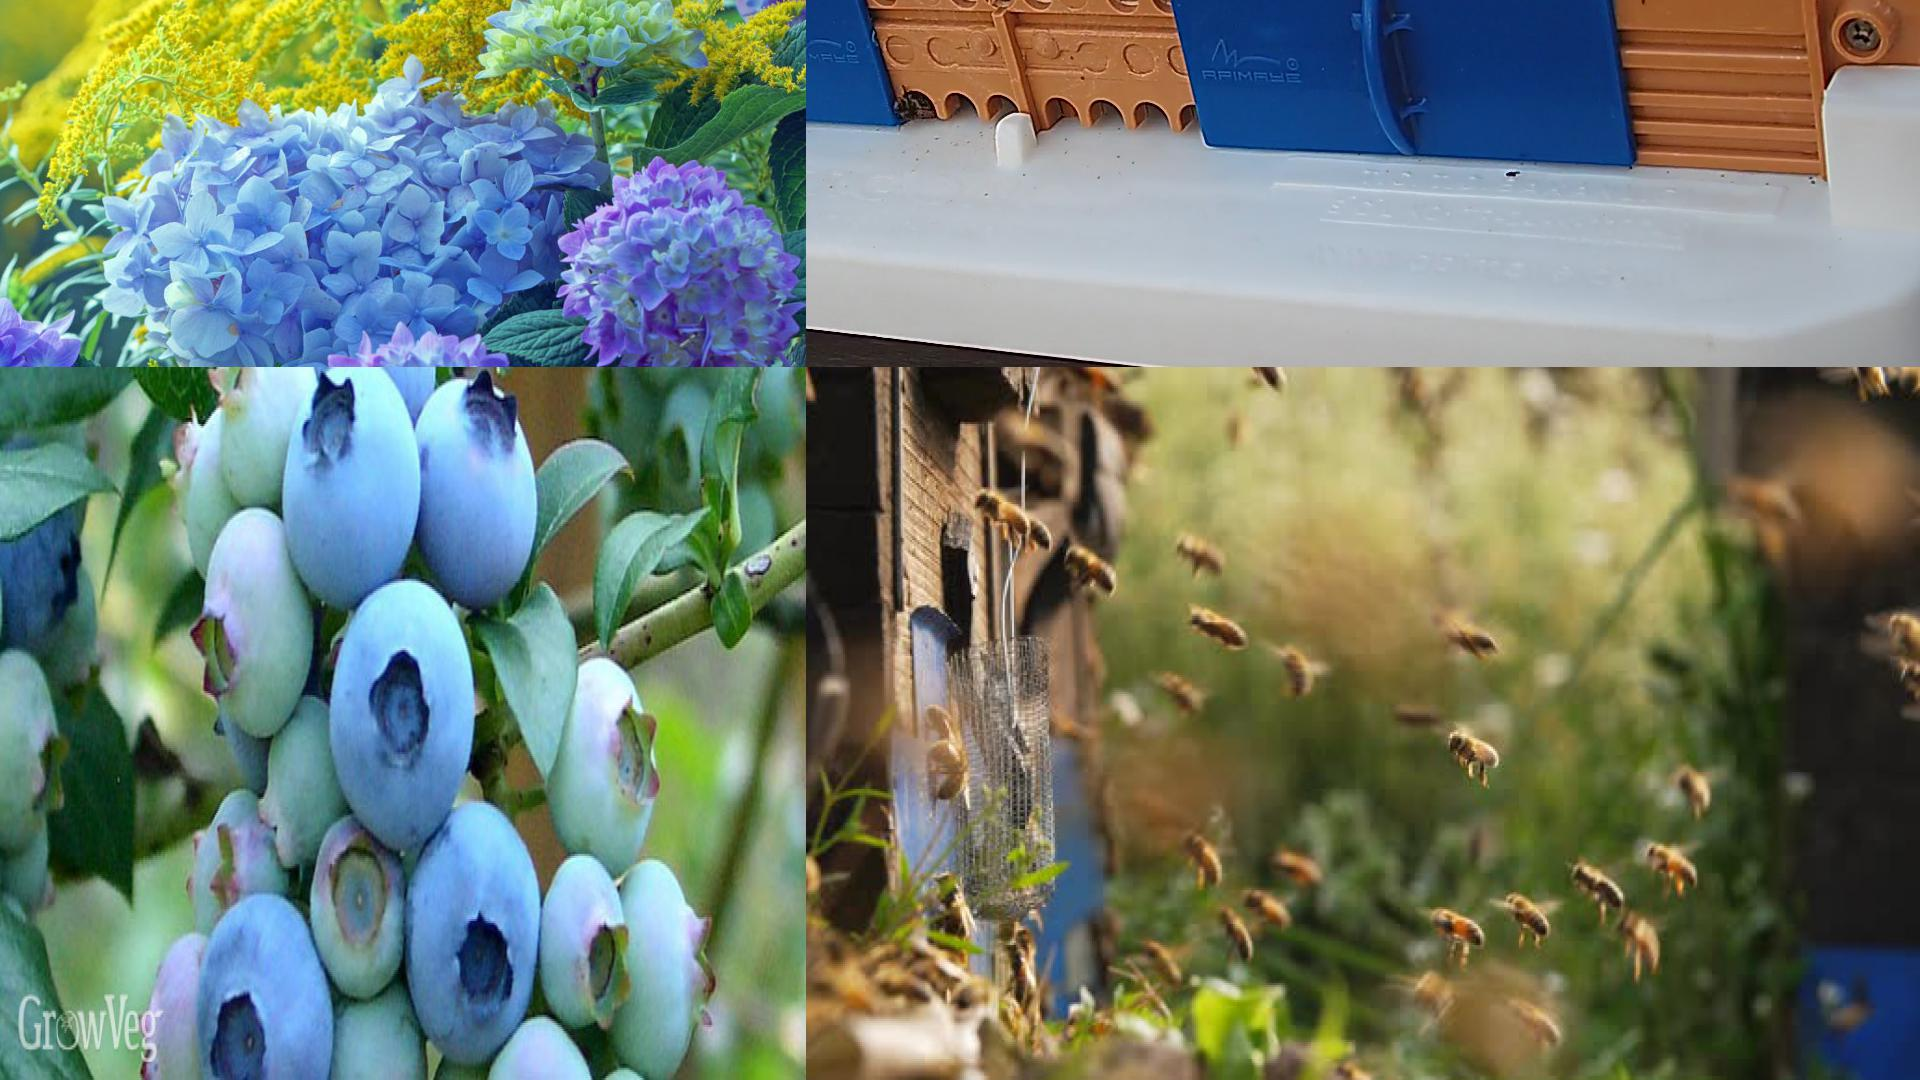bee: (1063, 546, 1118, 595), (927, 744, 971, 798), (1573, 864, 1625, 909), (1647, 843, 1700, 885), (1511, 998, 1559, 1042), (1621, 919, 1660, 971), (1014, 930, 1039, 1006), (1189, 612, 1245, 645), (1220, 907, 1253, 963), (1429, 909, 1482, 943), (1890, 650, 1920, 708), (1507, 894, 1549, 935), (1451, 733, 1498, 767), (1146, 942, 1180, 988), (1175, 537, 1221, 571), (1188, 837, 1221, 884), (1676, 766, 1712, 808), (927, 705, 964, 745), (1249, 889, 1288, 924), (1273, 853, 1316, 884), (893, 94, 935, 124), (1284, 650, 1312, 694), (1445, 632, 1497, 653), (1162, 671, 1193, 705), (1855, 367, 1891, 396), (1892, 612, 1919, 647), (1255, 367, 1287, 389), (1902, 367, 1919, 392)
pollenbee: (975, 493, 1031, 535), (1009, 510, 1052, 550)
